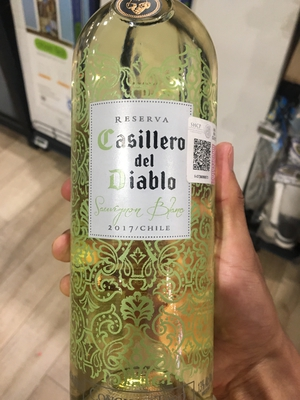casillero del diablo sauvignon blanc: (67, 8, 239, 400)
